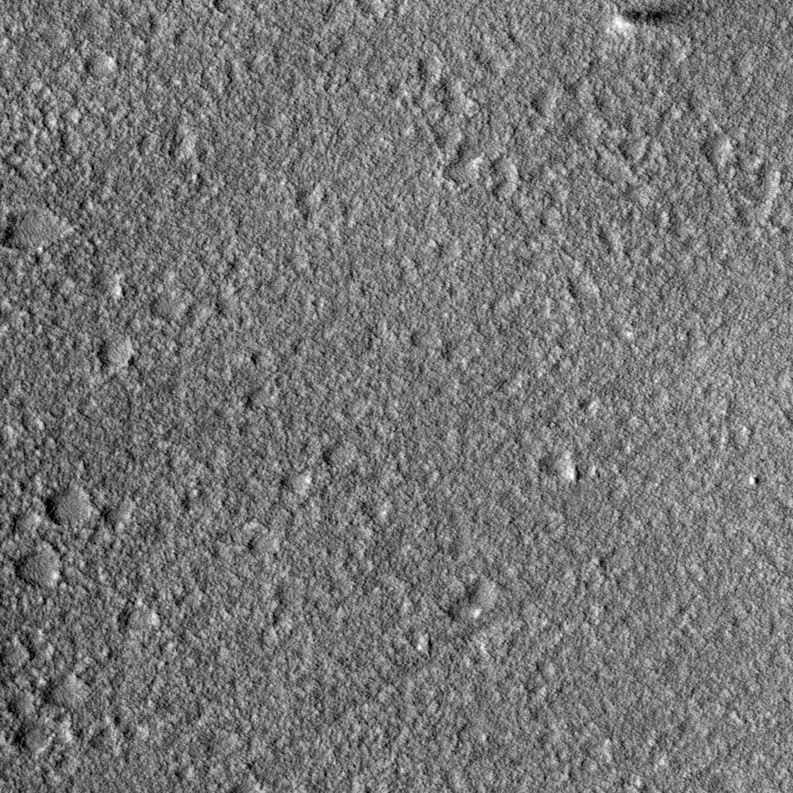dust_devil: (609, 0, 687, 36)
